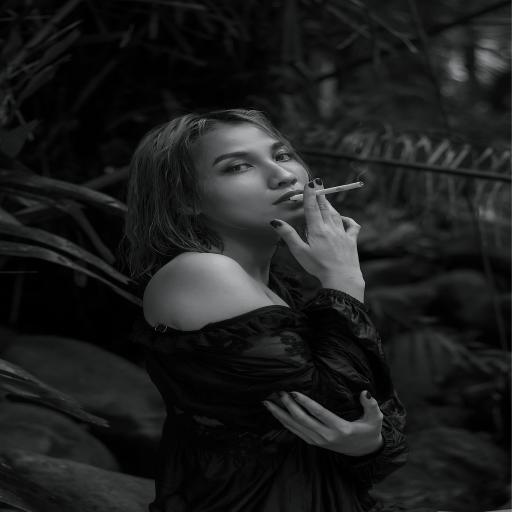terdeteksi merokok: (240, 112, 377, 242)
